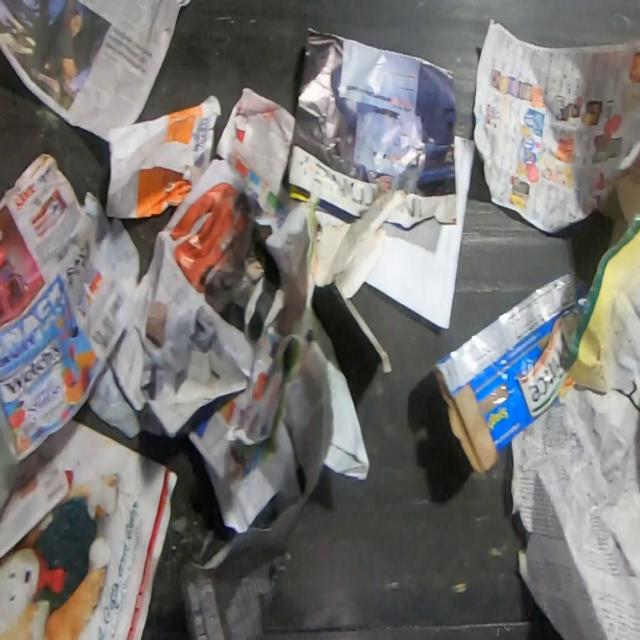cardboard: (433, 268, 589, 476), (594, 145, 640, 249)
